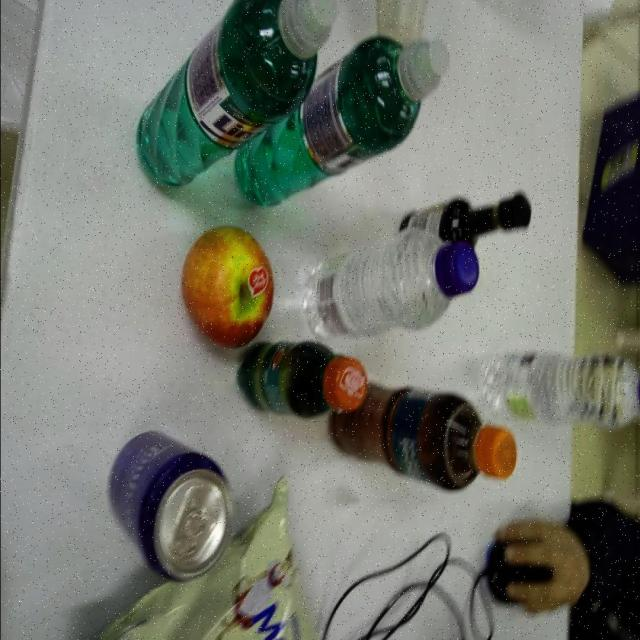Apple: (181, 228, 274, 349)
Cleaner: (137, 0, 339, 194), (232, 35, 452, 212)
CornFlakes: (80, 484, 320, 640)
EnglishSauce: (398, 198, 531, 248)
Guarana: (239, 340, 369, 420)
IceTea: (329, 379, 515, 492)
Tonic: (104, 434, 235, 579)
Water: (300, 228, 480, 342), (475, 348, 640, 431)
